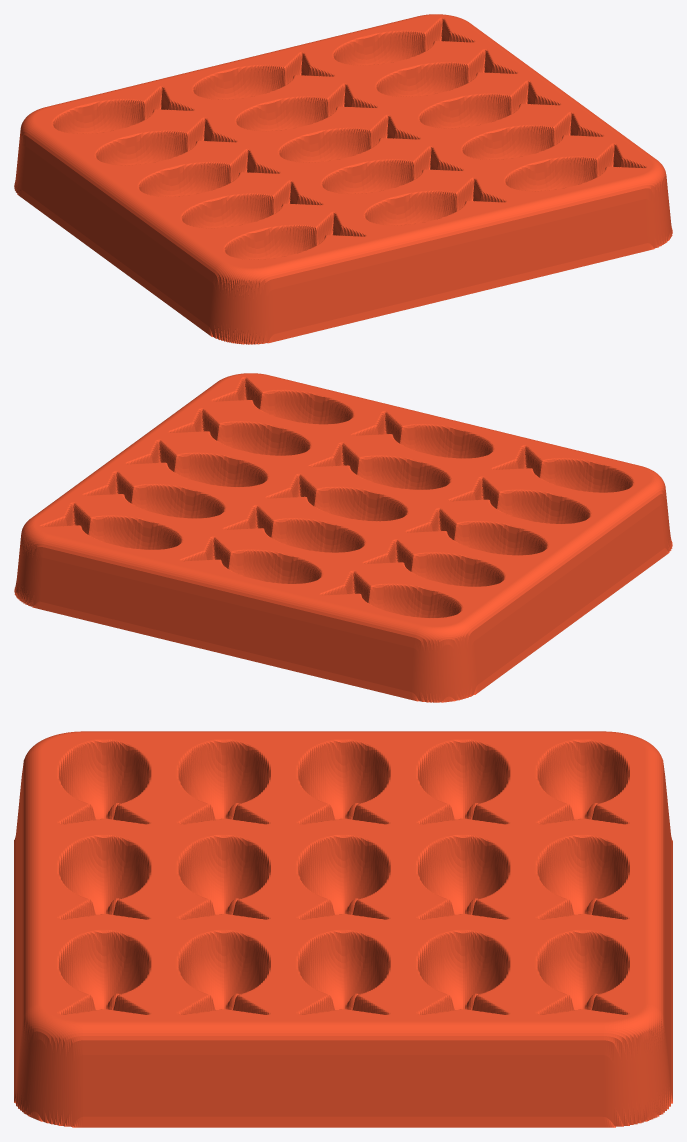
Rendered from mold.glb.
3 views of the same model, one above another, from view 1: azimuth 30°, elevation 25°; view 2: azimuth 150°, elevation 25°; view 3: azimuth 270°, elevation 25° (orthographic). The views are drawn at different scales.
Parts seen in each view (by area): view 1: geometry_0; view 2: geometry_0; view 3: geometry_0.
Boxes of the visible parts, bbox=[...] form: geometry_0: bbox=[14, 14, 672, 344]; geometry_0: bbox=[14, 373, 672, 702]; geometry_0: bbox=[14, 731, 672, 1127].
Bounding box in the file's own units: 0.0966 × 0.0136 × 0.0863.
